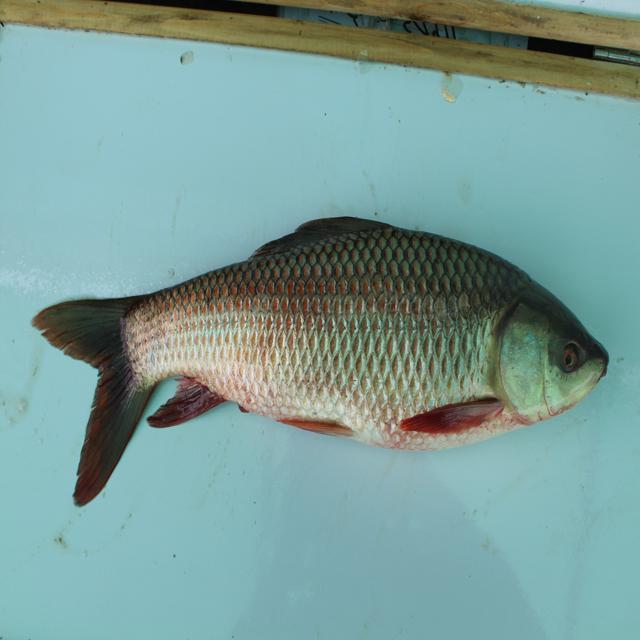Grass Carp: (25, 208, 614, 507)
